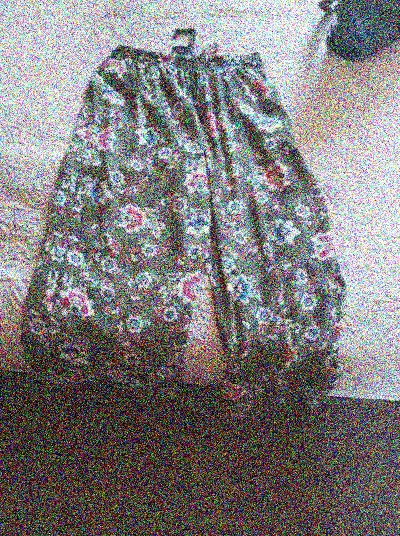Pants: (34, 38, 349, 434)
